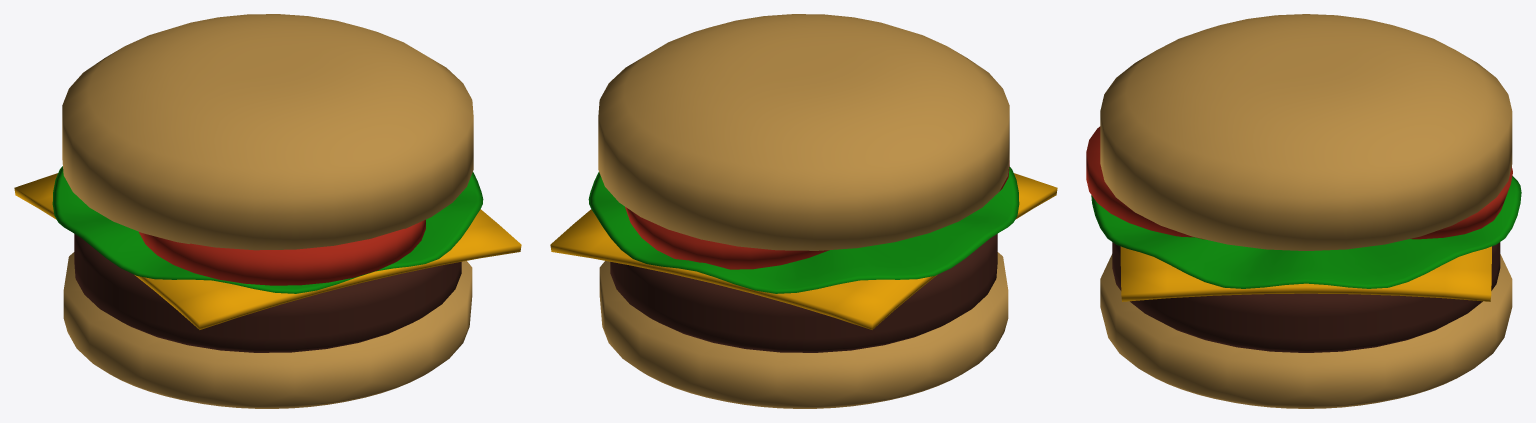
Rendered from hamburger.obj.
3 views of the same model, side by side, from view 1: azimuth 30°, elevation 25°; view 2: azimuth 150°, elevation 25°; view 3: azimuth 270°, elevation 25° (orthographic).
Visible parts, largest first — view 1: Cylinder006, Cylinder001, Cylinder002, Cylinder004, Cylinder003, Box001; view 2: Cylinder006, Cylinder001, Cylinder002, Cylinder003, Box001, Cylinder005; view 3: Cylinder006, Cylinder001, Cylinder002, Cylinder003, Box001, Cylinder004, Cylinder005.
Part boxes in pixels (bbox=[...]): Cylinder006: bbox=[62, 14, 473, 250]; Cylinder001: bbox=[63, 252, 472, 408]; Cylinder002: bbox=[74, 234, 461, 352]; Cylinder004: bbox=[139, 219, 425, 285]; Cylinder003: bbox=[52, 166, 483, 293]; Box001: bbox=[14, 173, 521, 329]; Cylinder006: bbox=[598, 14, 1009, 250]; Cylinder001: bbox=[599, 252, 1008, 408]; Cylinder002: bbox=[610, 234, 997, 352]; Cylinder003: bbox=[588, 167, 1019, 293]; Box001: bbox=[550, 173, 1057, 329]; Cylinder005: bbox=[625, 207, 829, 269]; Cylinder006: bbox=[1100, 14, 1512, 250]; Cylinder001: bbox=[1100, 254, 1512, 408]; Cylinder002: bbox=[1112, 242, 1500, 352]; Cylinder003: bbox=[1091, 176, 1521, 288]; Box001: bbox=[1120, 246, 1491, 301]; Cylinder004: bbox=[1086, 126, 1204, 239]; Cylinder005: bbox=[1410, 166, 1512, 239].
Bounding box in the file's own units: 10.45 × 7.34 × 10.56.
